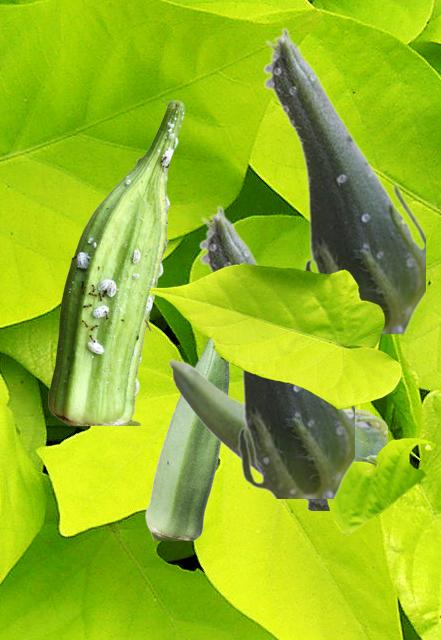okra: (262, 27, 424, 332), (198, 205, 353, 497), (48, 100, 184, 424), (168, 359, 386, 509), (145, 339, 228, 539)
